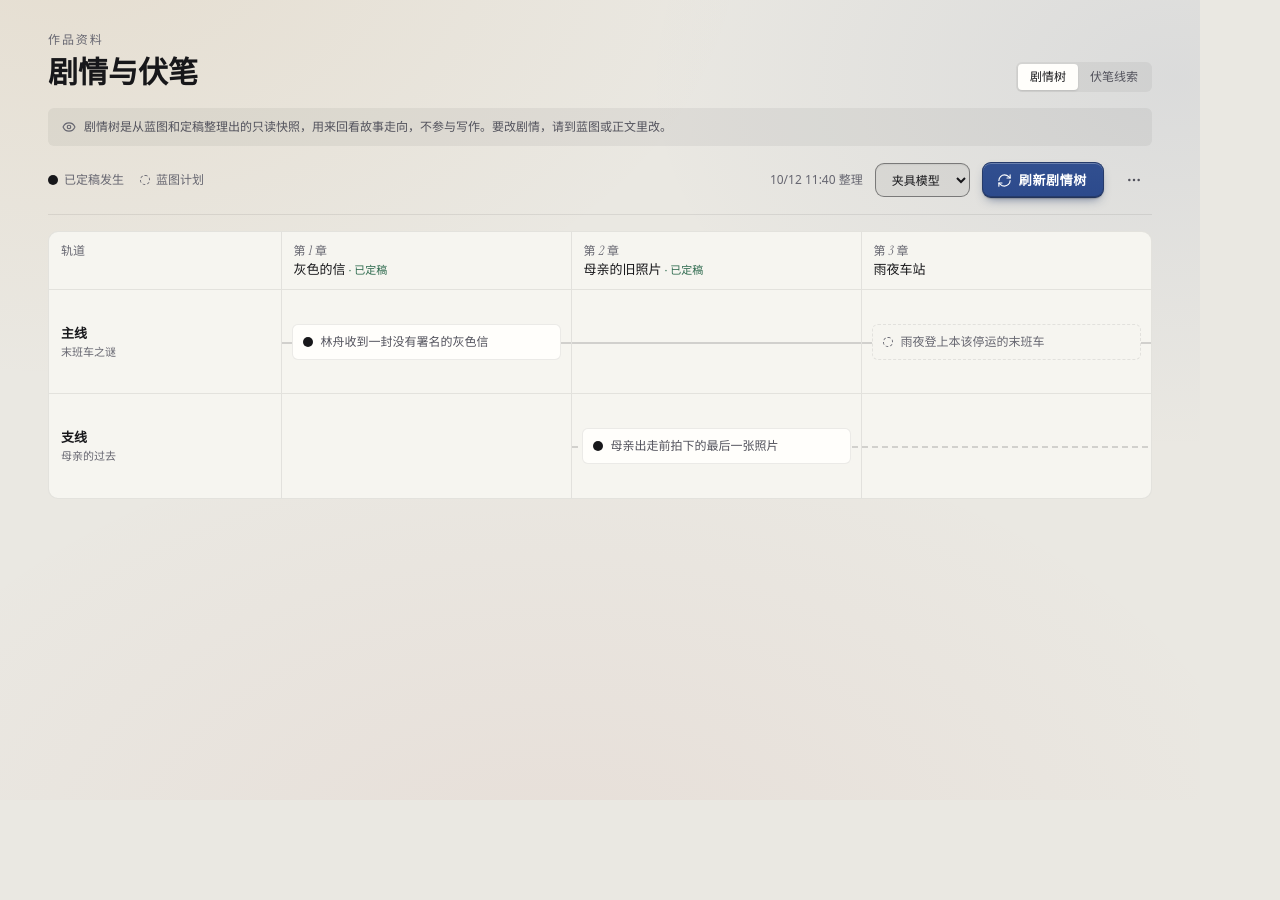
Test case: 剧情与伏笔 › 清除剧情树先危险确认：取消不清，确认才清
Expected: the table named "剧情树" is shown, top-left (49, 232), bottom-right (1151, 498)
Click the button named "剧情树的更多操作": click(1134, 180) top-left (1116, 162), bottom-right (1152, 198)
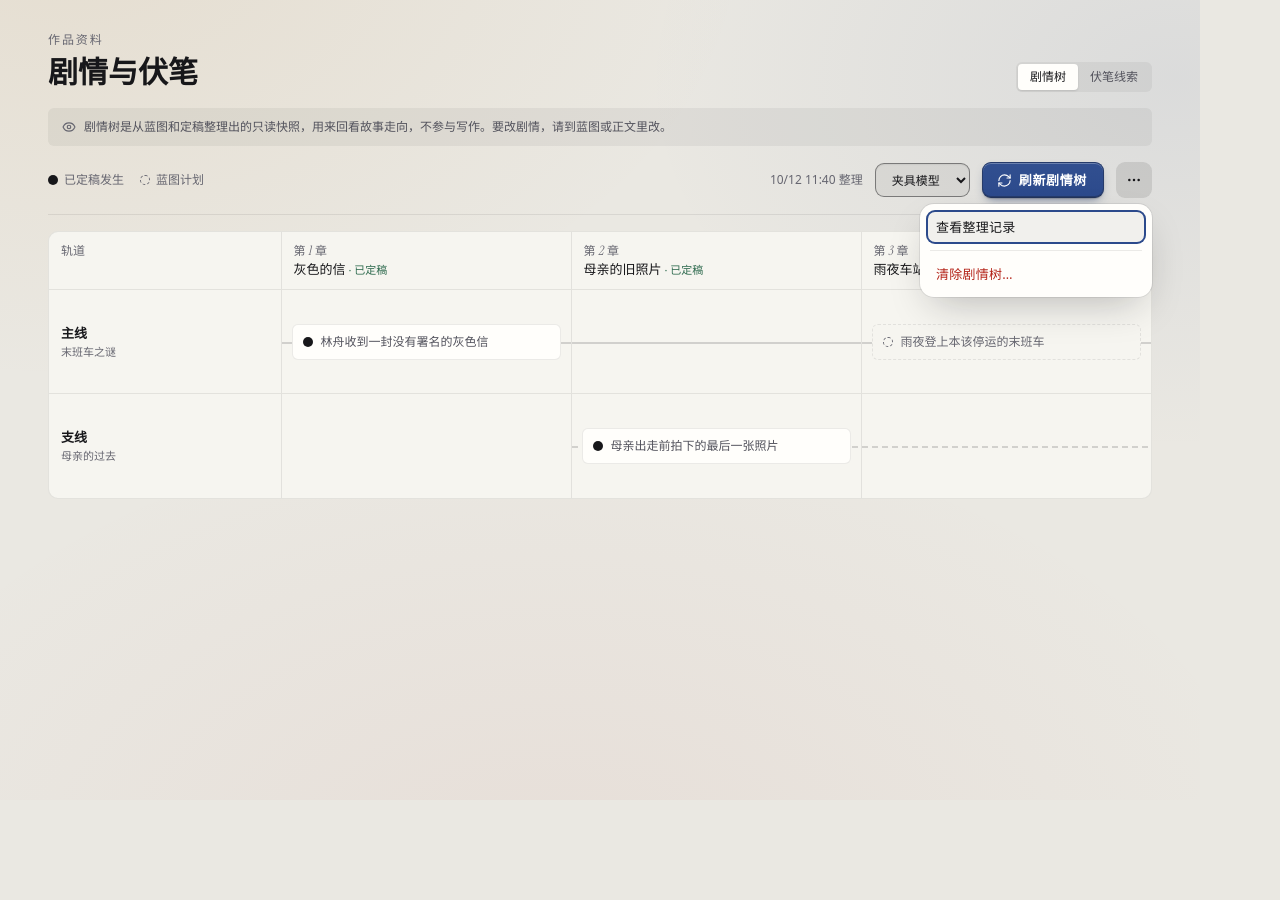
Result: the menu item "清除剧情树…" is shown
Click the menu item "清除剧情树…": click(1036, 274) top-left (926, 257), bottom-right (1146, 291)
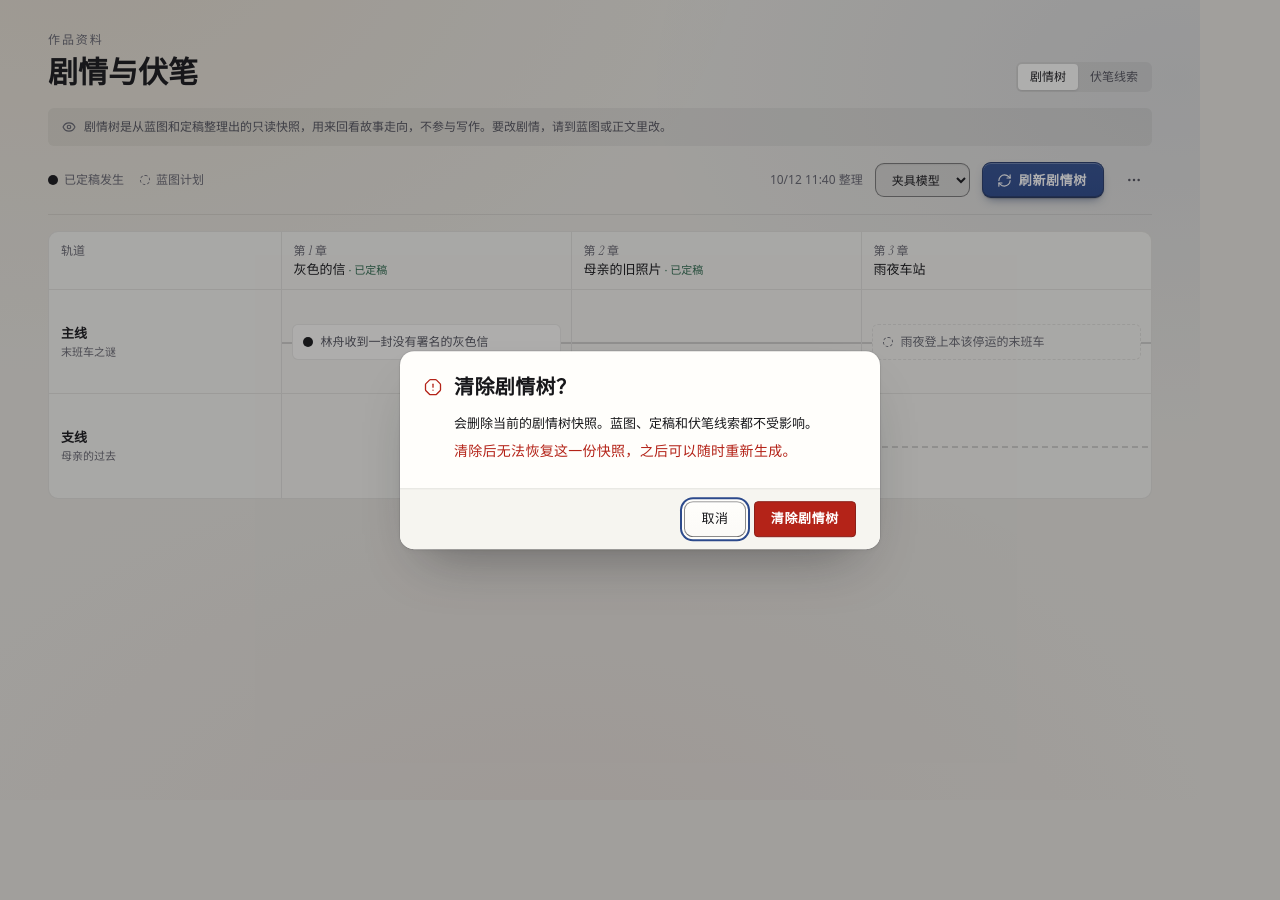
Result: the dialog shows "清除剧情树？" at top-left (454, 376), bottom-right (576, 398)
Result: the dialog shows "蓝图、定稿和伏笔线索都不受影响" at top-left (454, 414), bottom-right (818, 432)
Result: the button "取消" is shown
Click the button "取消": click(715, 519) top-left (684, 501), bottom-right (746, 537)
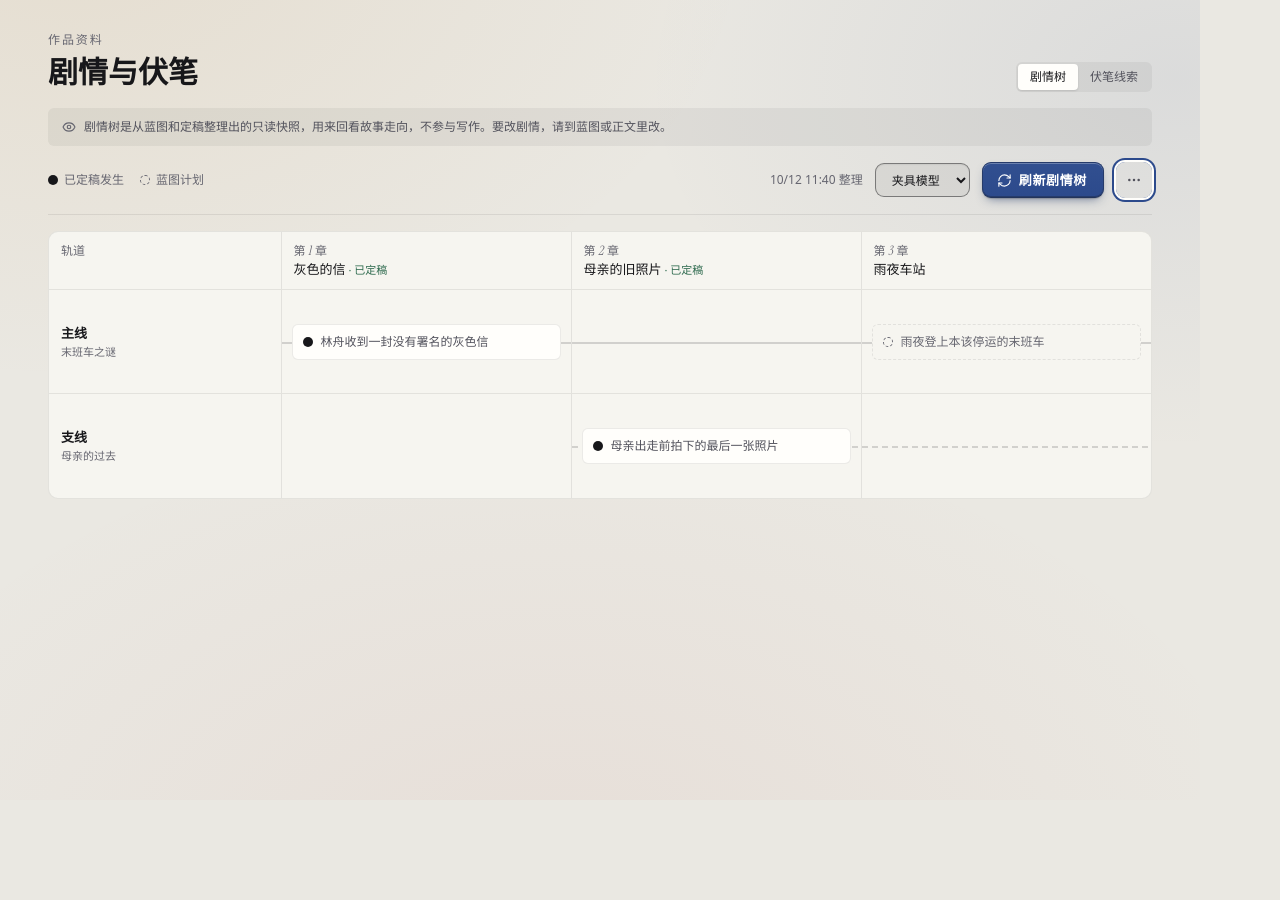
Expected: the table named "剧情树" is shown, top-left (49, 232), bottom-right (1151, 498)
Result: the dialog is gone
Click the button named "剧情树的更多操作": click(1134, 180) top-left (1116, 162), bottom-right (1152, 198)
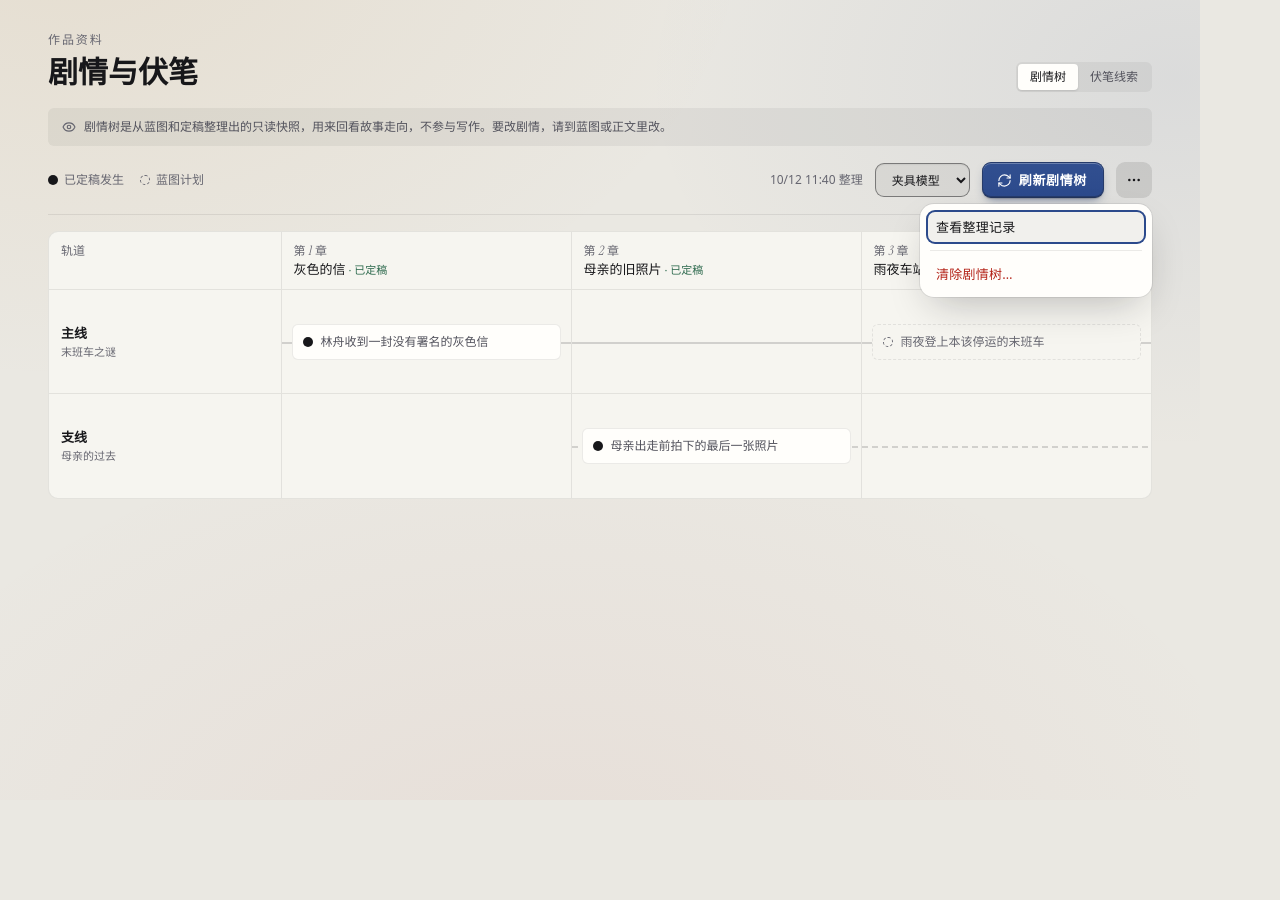
Result: the menu item "清除剧情树…" is shown
Click the menu item "清除剧情树…": click(1036, 274) top-left (926, 257), bottom-right (1146, 291)
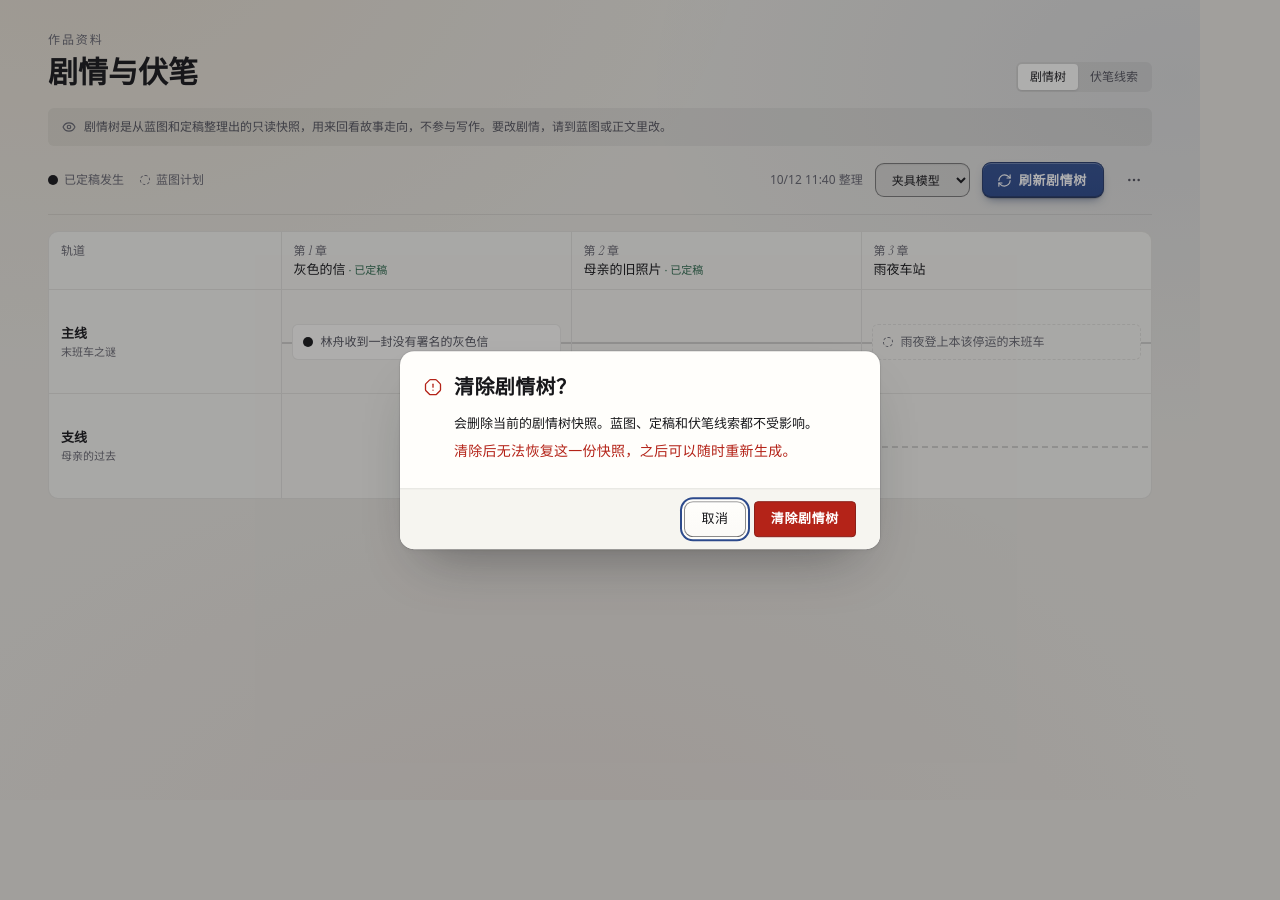
Result: the button "清除剧情树" is shown
Click the button "清除剧情树": click(805, 519) top-left (754, 501), bottom-right (856, 537)
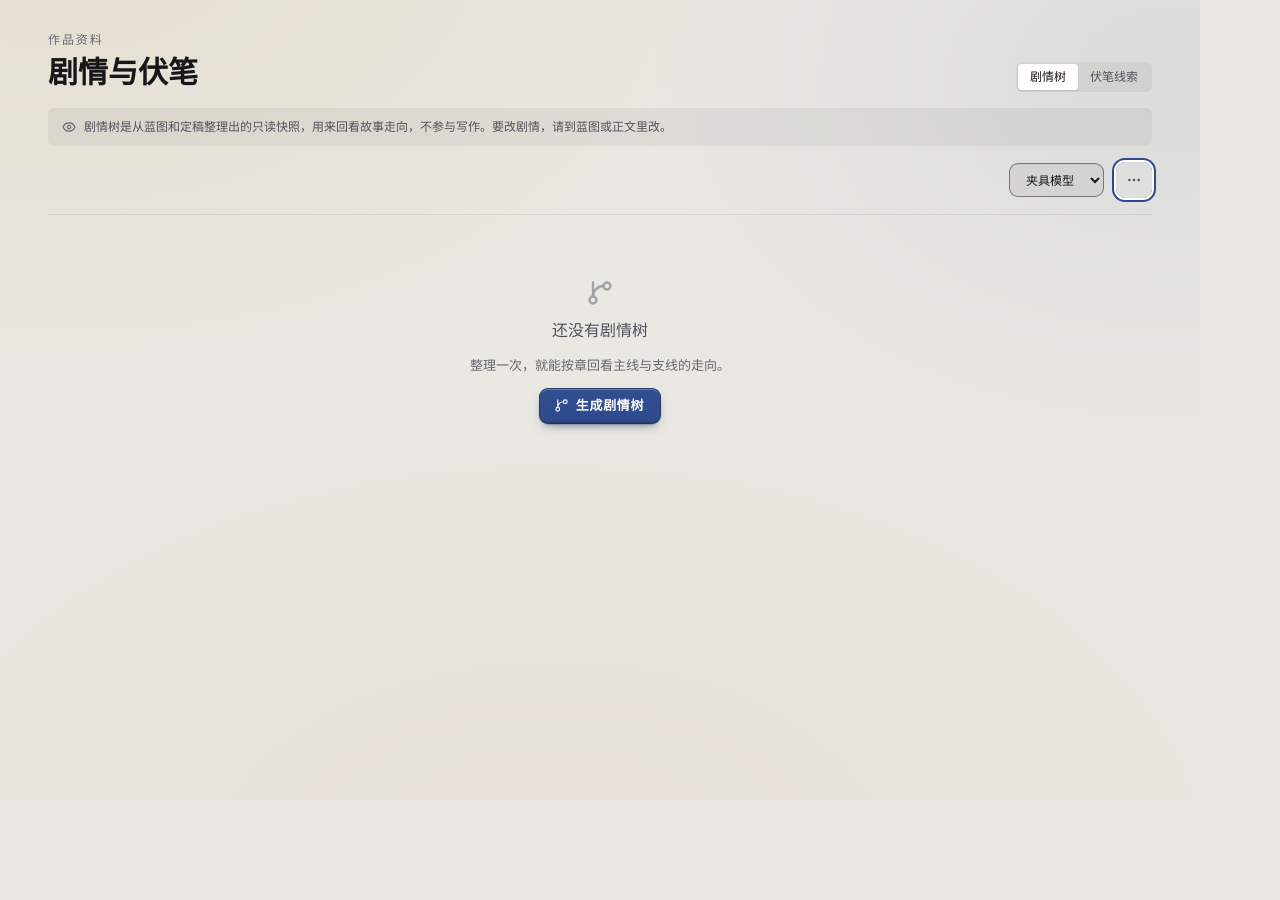
Result: the table named "剧情树" is gone
Result: the text "还没有剧情树" is shown at top-left (552, 319), bottom-right (648, 343)
